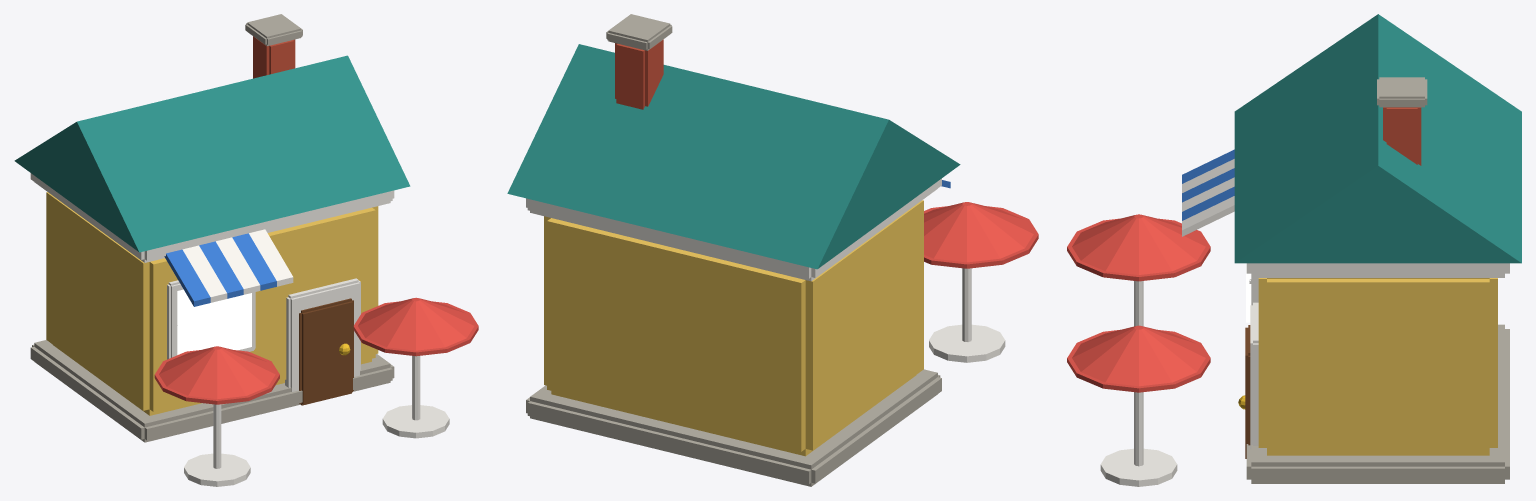
The model's file is cafe.glb.
3 renders of one model, left to right at view 1: azimuth 30°, elevation 25°; view 2: azimuth 150°, elevation 25°; view 3: azimuth 270°, elevation 25°, orthographic. The views are drawn at different scales.
Visible parts, largest first — view 1: cafe; view 2: cafe; view 3: cafe.
Boxes of the visible parts, <box> form: cafe: <box>14,14,478,486</box>; cafe: <box>507,14,1038,486</box>; cafe: <box>1067,14,1521,486</box>.
Bounding box in the file's own units: 1.7 × 1.7 × 1.9.
